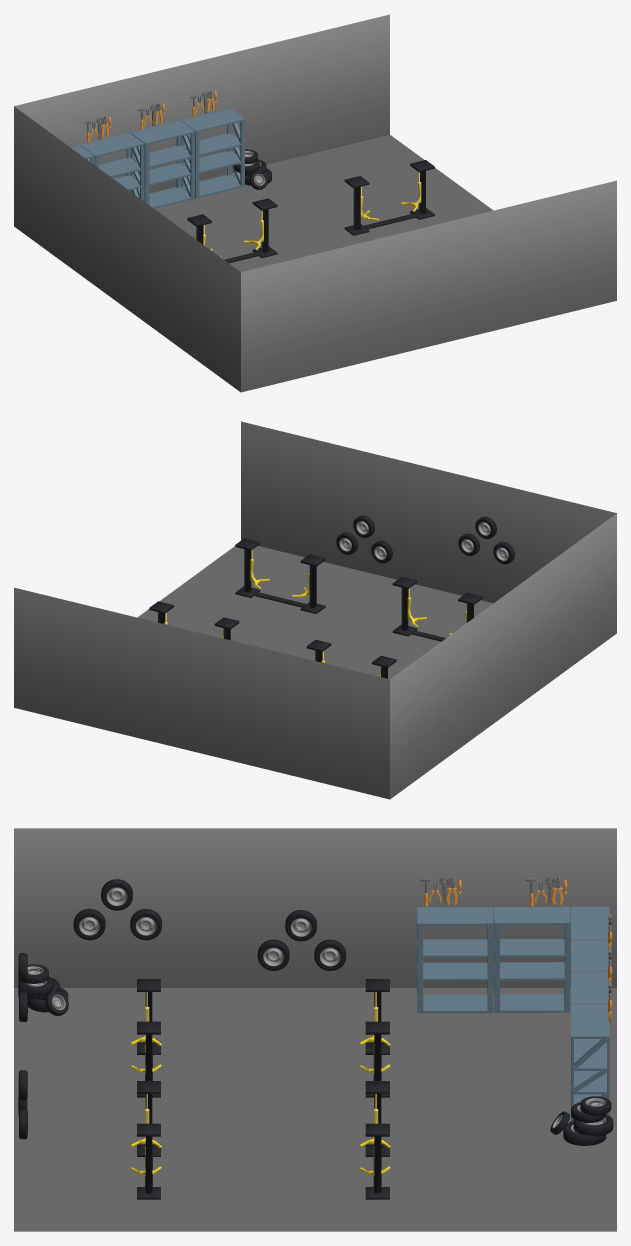
Rendered from garage.fbx.
3 renders of one model, top to bottom at view 1: azimuth 30°, elevation 25°; view 2: azimuth 150°, elevation 25°; view 3: azimuth 270°, elevation 25°, orthographic. The views are drawn at different scales.
Visible parts, largest first — view 1: Cube, Cube.049, Cube.009, Cube.006, pCylinder1.013; view 2: Cube, Cube.003, Cube.002, pCylinder1.005, pCylinder1.008, Cube.006, Cube.009; view 3: Cube, Cube.049, pCylinder1.004, pCylinder1.013, Cube.009, Cube.003, Cube.006, Cube.002, pCylinder1.009, pCylinder1.003, pCylinder1.008, pCylinder1.005 (+4 smaller).
Boxes of the visible parts, x1,y1,x2,y2 form: Cube: (14, 14, 616, 392); Cube.049: (71, 108, 244, 208); Cube.009: (344, 160, 434, 235); Cube.006: (187, 198, 277, 263); pCylinder1.013: (234, 149, 271, 189); Cube: (14, 421, 616, 799); Cube.003: (235, 538, 325, 613); Cube.002: (392, 576, 482, 641); pCylinder1.005: (458, 516, 514, 564); pCylinder1.008: (336, 515, 392, 563); Cube.006: (306, 639, 396, 678); Cube.009: (149, 601, 239, 640); Cube: (14, 828, 616, 1231); Cube.049: (417, 906, 609, 1121); pCylinder1.004: (257, 910, 346, 970); pCylinder1.013: (550, 1096, 613, 1145); Cube.009: (359, 1081, 390, 1199); Cube.003: (130, 1081, 161, 1199); Cube.006: (359, 979, 390, 1097); Cube.002: (130, 979, 161, 1097); pCylinder1.009: (18, 964, 68, 1015); pCylinder1.003: (101, 879, 132, 910); pCylinder1.008: (18, 1070, 27, 1139); pCylinder1.005: (18, 953, 27, 1021).
Bounding box in the file's own units: 7116 × 2199 × 7437.
Materials: 3 (1 with a texture image).
